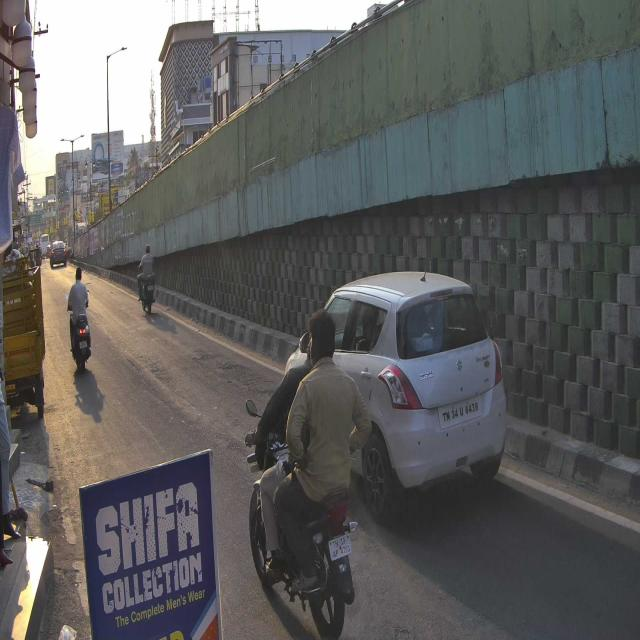double_rider: (243, 308, 366, 640)
